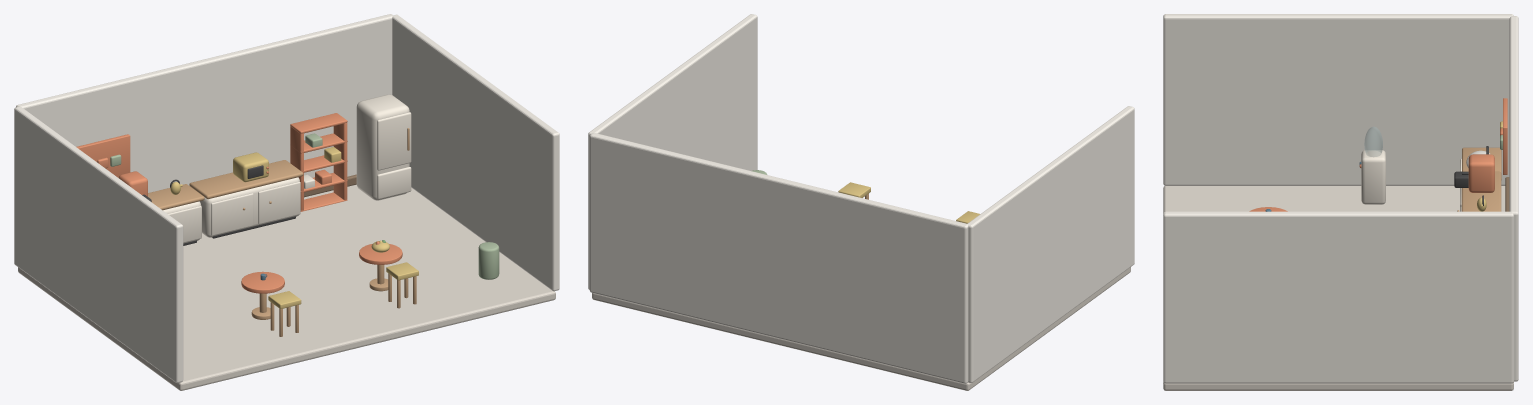
The model's file is room-pantry.glb.
3 renders of one model, left to right at view 1: azimuth 30°, elevation 25°; view 2: azimuth 150°, elevation 25°; view 3: azimuth 270°, elevation 25°, orthographic. The views are drawn at different scales.
Parts seen in each view (by area): view 1: room-pantry_floor, room-pantry_back, room-pantry_left, room-pantry_right, body.009, upper-door, worktop.004, door.003, door.002, panel.011, carcass.001, lower-door (+9 smaller); view 2: room-pantry_back, room-pantry_left, room-pantry_right, room-pantry_floor; view 3: room-pantry_right, room-pantry_left, room-pantry_floor, room-pantry_back, base.011, body.007, worktop.001, bottle, worktop.003, panel.011.
Part boxes in pixels (x1=…): room-pantry_floor: x1=18, y1=184, x2=555, y2=390; room-pantry_back: x1=16, y1=14, x2=392, y2=192; room-pantry_left: x1=14, y1=106, x2=183, y2=383; room-pantry_right: x1=392, y1=14, x2=559, y2=291; body.009: x1=356, y1=94, x2=409, y2=200; upper-door: x1=377, y1=112, x2=411, y2=170; worktop.004: x1=189, y1=160, x2=303, y2=199; door.003: x1=258, y1=181, x2=300, y2=224; door.002: x1=211, y1=193, x2=253, y2=235; panel.011: x1=76, y1=134, x2=130, y2=177; carcass.001: x1=200, y1=177, x2=299, y2=237; lower-door: x1=377, y1=167, x2=411, y2=199; room-pantry_back: x1=589, y1=133, x2=968, y2=383; room-pantry_left: x1=967, y1=106, x2=1134, y2=382; room-pantry_right: x1=588, y1=14, x2=757, y2=289; room-pantry_floor: x1=592, y1=267, x2=1130, y2=390; room-pantry_right: x1=1163, y1=211, x2=1513, y2=383; room-pantry_left: x1=1163, y1=14, x2=1513, y2=185; room-pantry_floor: x1=1163, y1=186, x2=1513, y2=390; room-pantry_back: x1=1509, y1=16, x2=1518, y2=381; base.011: x1=1361, y1=150, x2=1385, y2=204; body.007: x1=1468, y1=154, x2=1494, y2=192; worktop.001: x1=1461, y1=171, x2=1501, y2=211; bottle: x1=1364, y1=126, x2=1382, y2=156; worktop.003: x1=1462, y1=147, x2=1501, y2=179; panel.011: x1=1503, y1=98, x2=1507, y2=174.
Bounding box in the file's own units: 8.16 × 3.38 × 6.08.
